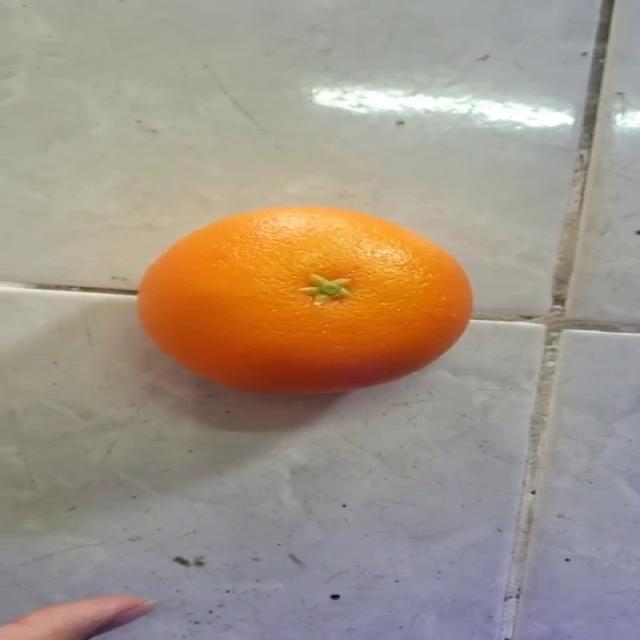Orange: (135, 203, 473, 396)
